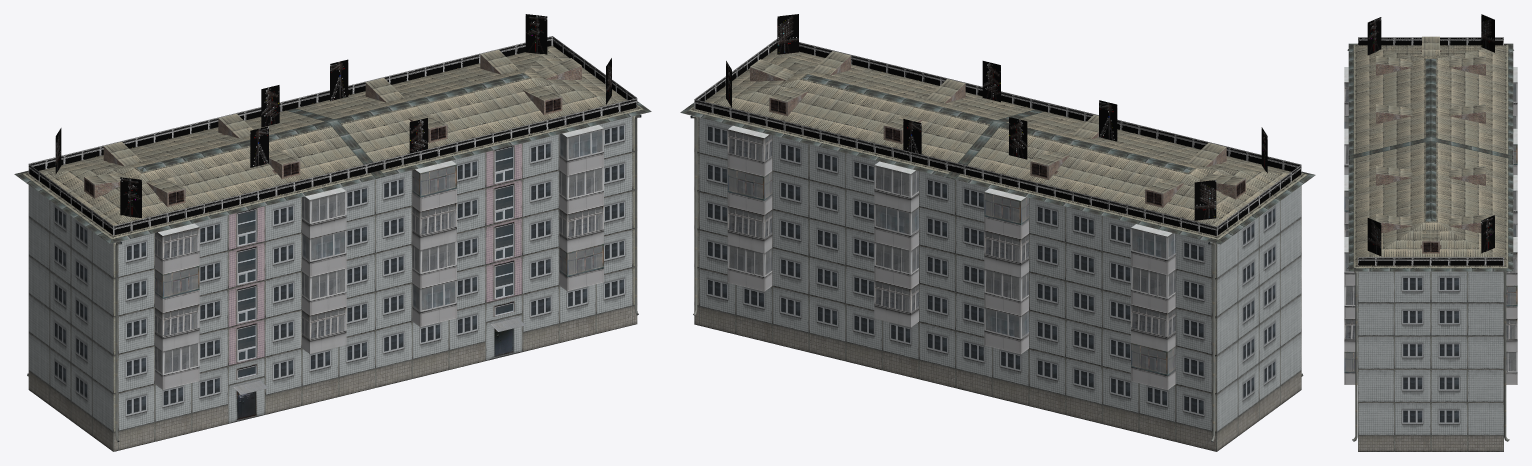
File: rus_build_5et_03b.fbx
3 renders of one model, left to right at view 1: azimuth 30°, elevation 25°; view 2: azimuth 150°, elevation 25°; view 3: azimuth 270°, elevation 25°, orthographic. The views are drawn at different scales.
Visible parts, largest first — view 1: Regroup13, rus_build_dec_01; view 2: Regroup13, rus_build_dec_01; view 3: Regroup13, rus_build_dec_01.
Part boxes in pixels (box(x1,y1,x2,y2)): Regroup13: box(14, 45, 651, 451); rus_build_dec_01: box(28, 14, 637, 235); Regroup13: box(680, 48, 1315, 451); rus_build_dec_01: box(694, 14, 1301, 235); Regroup13: box(1344, 36, 1517, 451); rus_build_dec_01: box(1358, 14, 1503, 265).
Bounding box in the file's own units: 4130 × 1925 × 1330.
